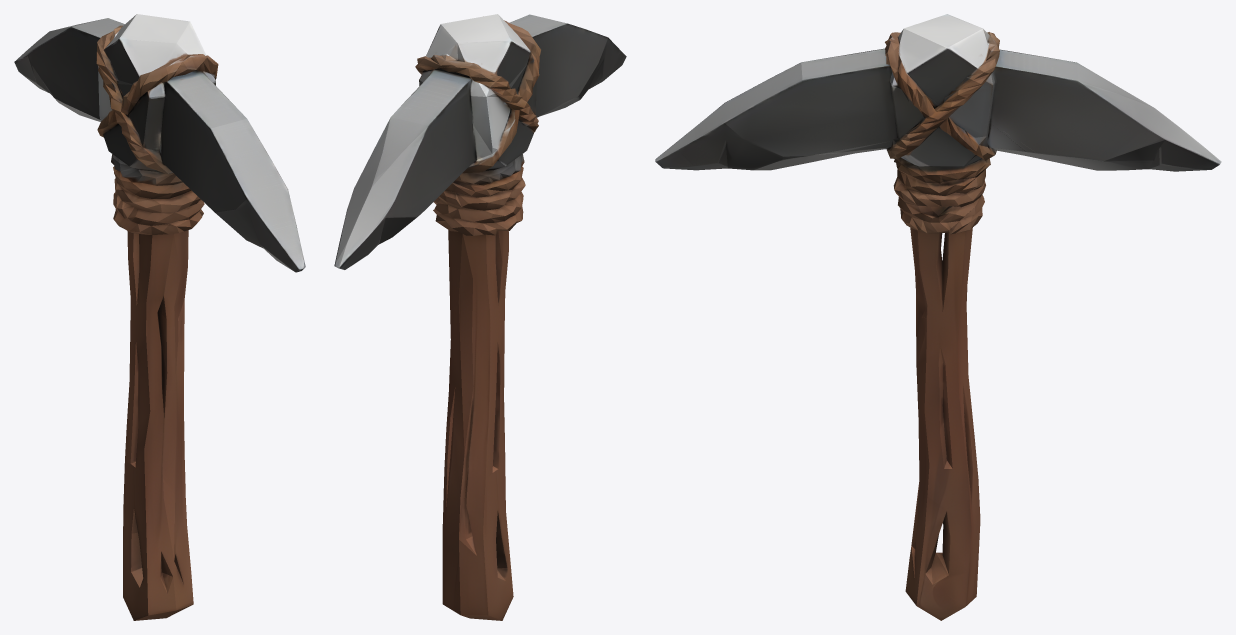
File: base_basic_pbr.fbx
3 views of the same model, side by side, from view 1: azimuth 30°, elevation 25°; view 2: azimuth 150°, elevation 25°; view 3: azimuth 270°, elevation 25° (orthographic).
Parts seen in each view (by area): view 1: model; view 2: model; view 3: model.
Part boxes in pixels (x1,y1,x2,y2): model: (14,14,305,620); model: (334,14,626,620); model: (655,14,1221,620).
Bounding box in the file's own units: 29.83 × 181 × 159.
Materials: 1 (1 with a texture image).
